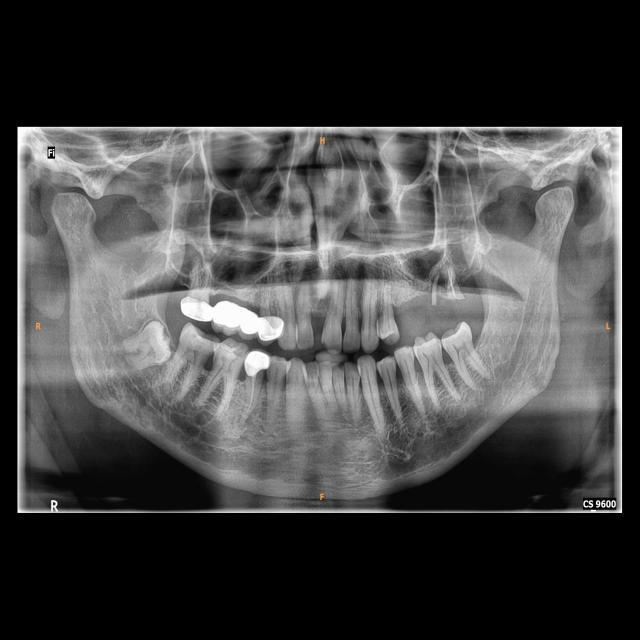kanal-tedavisi: (247, 380, 259, 414), (444, 267, 456, 291)
kaplama: (180, 293, 212, 324), (258, 312, 282, 341), (244, 352, 273, 374)
kirik: (430, 286, 466, 310)
kopru: (211, 292, 264, 338)
